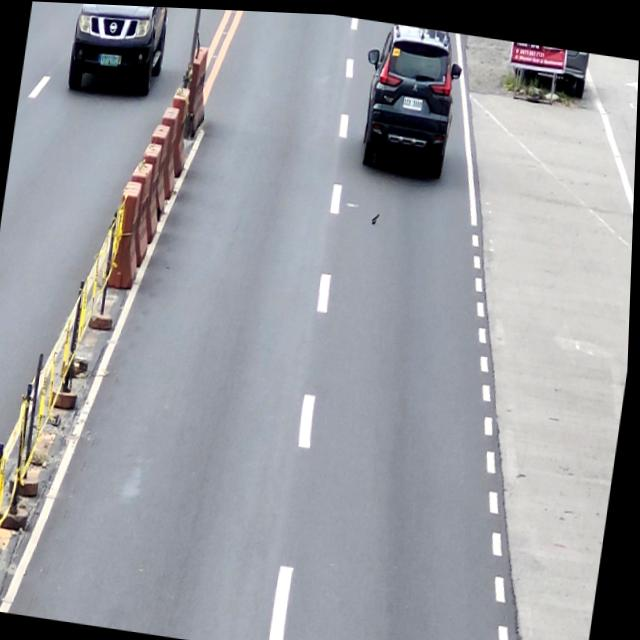Car: (352, 16, 467, 178)
License-Plate: (402, 91, 424, 107)
